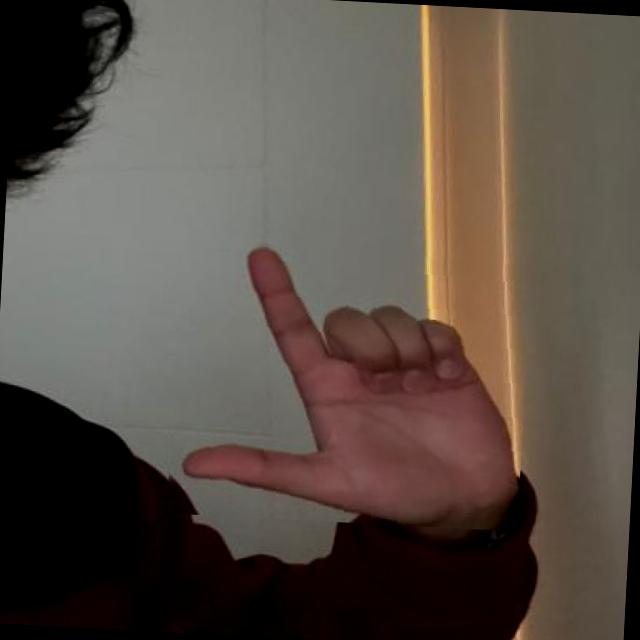L: (159, 234, 532, 532)
